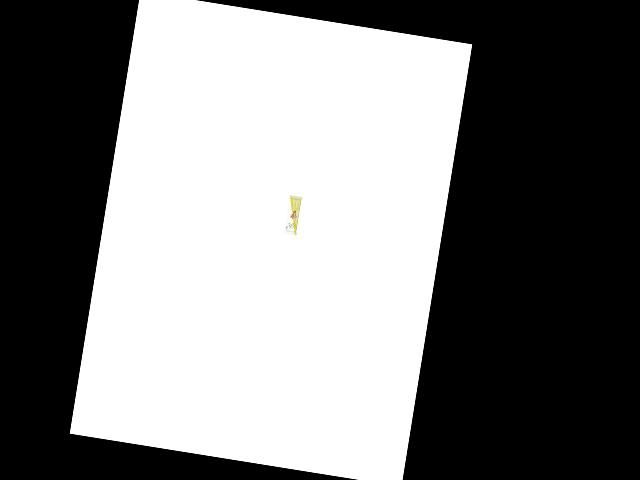chocolate: (280, 192, 306, 238)
